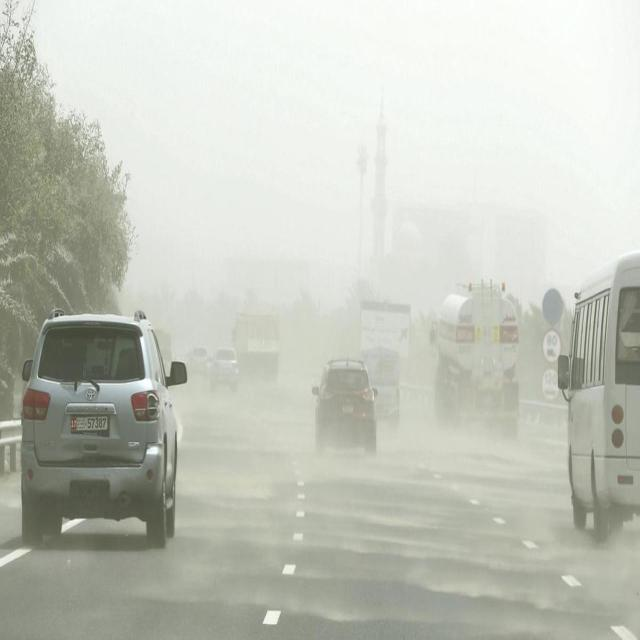Bus: (556, 245, 640, 544)
Car: (18, 309, 192, 553), (308, 356, 379, 464), (207, 344, 240, 390)
Truck: (429, 274, 523, 440), (360, 341, 403, 440), (231, 310, 282, 386)
